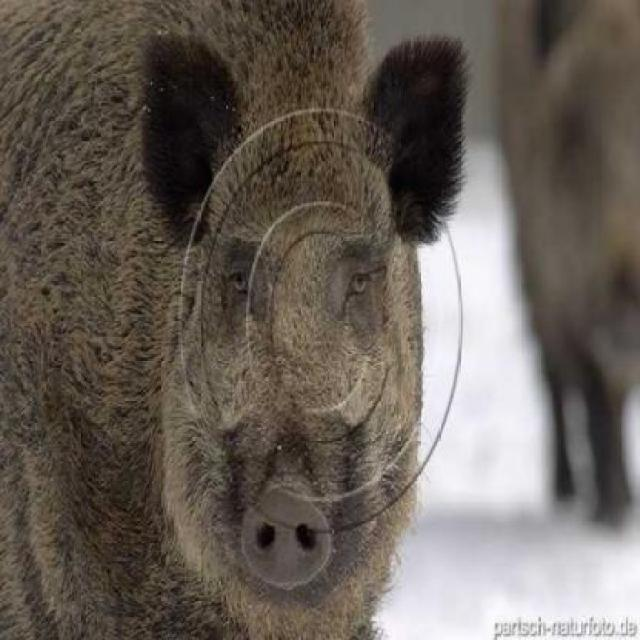pig: (17, 2, 441, 639)
